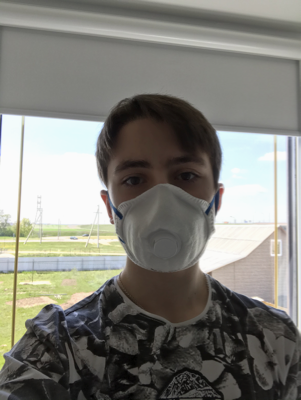with_mask: (109, 139, 218, 271)
